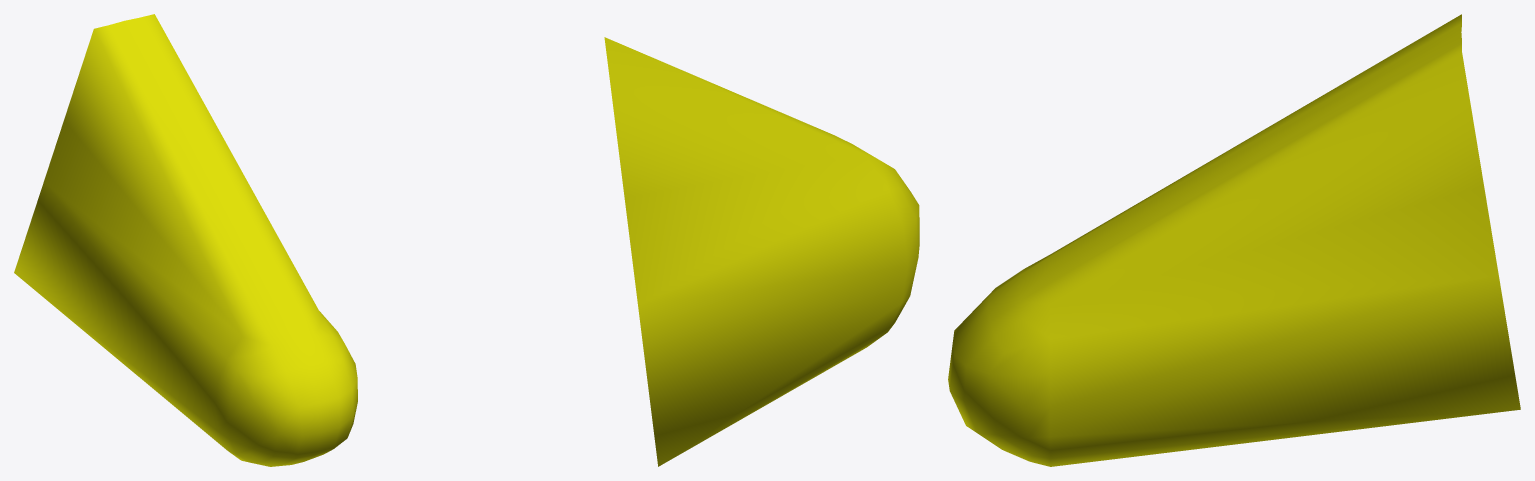
Rendered from Nose_14.glb.
3 renders of one model, left to right at view 1: azimuth 30°, elevation 25°; view 2: azimuth 150°, elevation 25°; view 3: azimuth 270°, elevation 25°, orthographic. The views are drawn at different scales.
Bounding box in the file's own units: 8.96 × 15.92 × 19.49.
